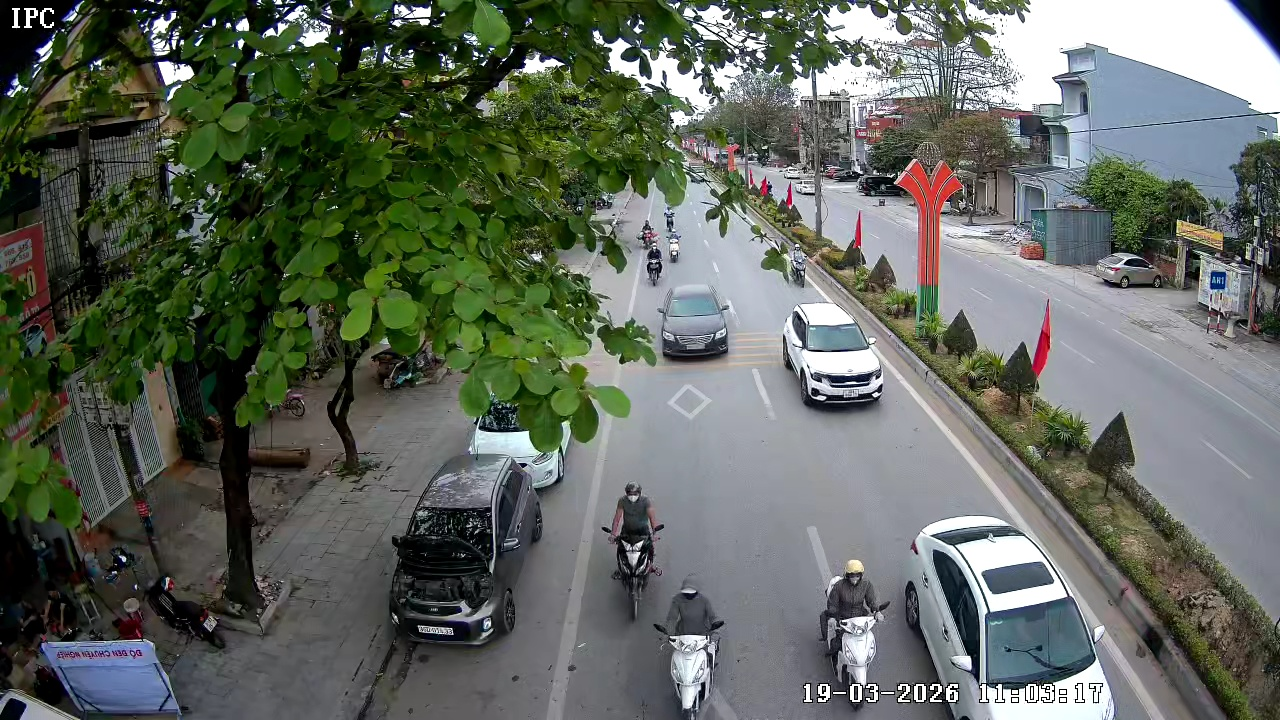car: (901, 514, 1120, 719), (388, 452, 544, 647), (780, 303, 886, 407), (468, 397, 569, 491), (657, 282, 735, 360)
motorbike: (809, 557, 892, 713), (651, 574, 728, 719), (600, 480, 666, 620), (645, 240, 665, 286), (666, 223, 683, 263), (640, 217, 657, 249)
